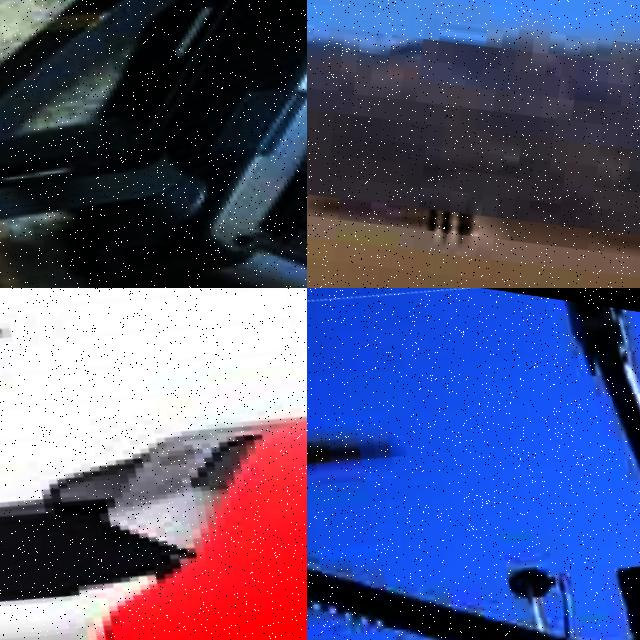0: (307, 288, 640, 640)
drone: (0, 288, 307, 640), (0, 0, 307, 288)
